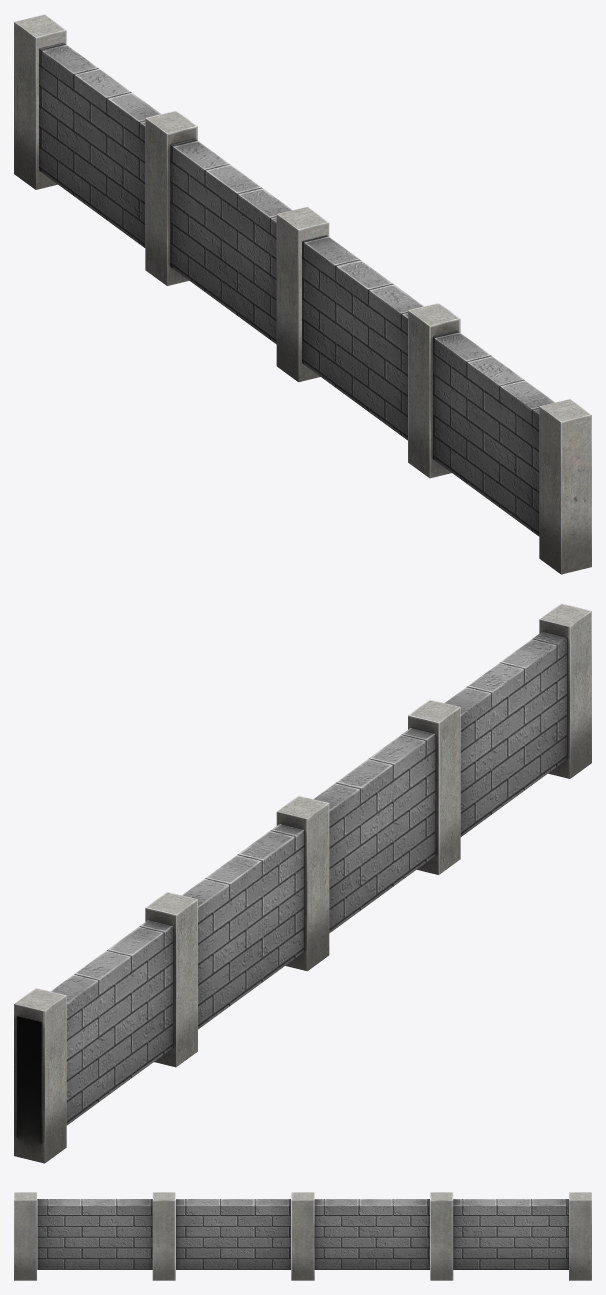
Rendered from Wall1.fbx.
3 renders of one model, top to bottom at view 1: azimuth 30°, elevation 25°; view 2: azimuth 150°, elevation 25°; view 3: azimuth 270°, elevation 25°, orthographic. The views are drawn at different scales.
Visible parts, largest first — view 1: Wall1; view 2: Wall1; view 3: Wall1.
Boxes of the visible parts, box(x1,y1,x2,y2) form: Wall1: box(14, 14, 591, 574); Wall1: box(14, 603, 591, 1163); Wall1: box(14, 1192, 591, 1280).
Size of the model in its own units: 26.87 by 127 by 826.
